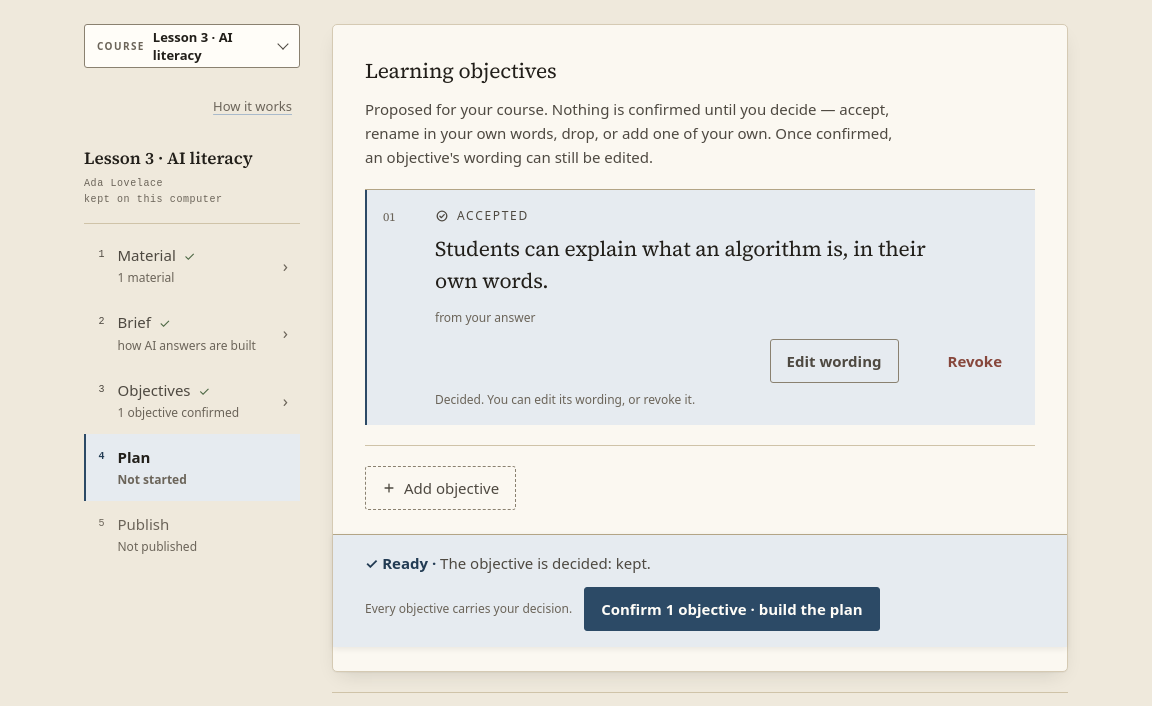
it: the first-run tour › 'How it works' opens it again, any time
The image size is (1152, 706).
expect the heading "Lesson 3 · AI literacy" is shown: met, box [84, 146, 253, 170]
Click the button "How it works": (253,106) [205, 84, 300, 128]
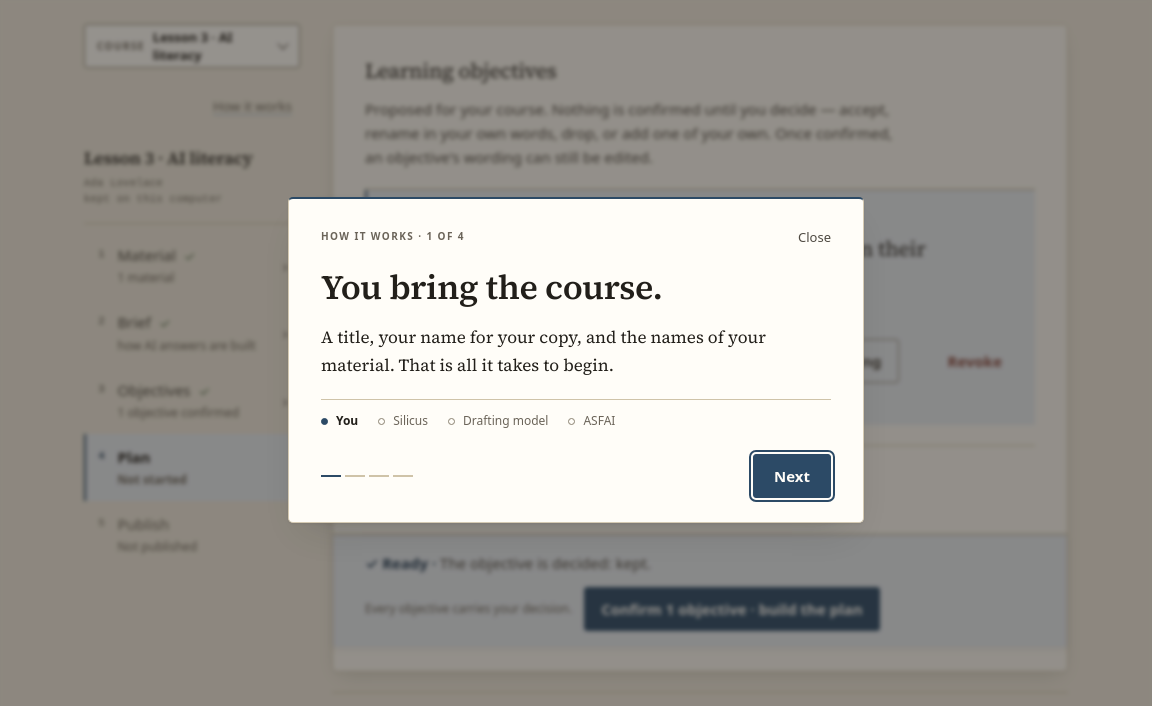
expect the dialog is shown: met, box [288, 197, 864, 523]
